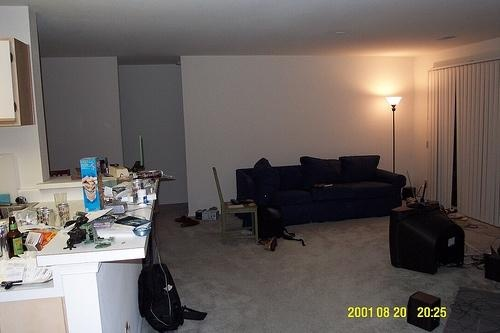bottle: (7, 217, 25, 260)
chair: (212, 167, 260, 246)
sofa: (235, 154, 408, 225)
tvmonitor: (390, 202, 466, 277)
